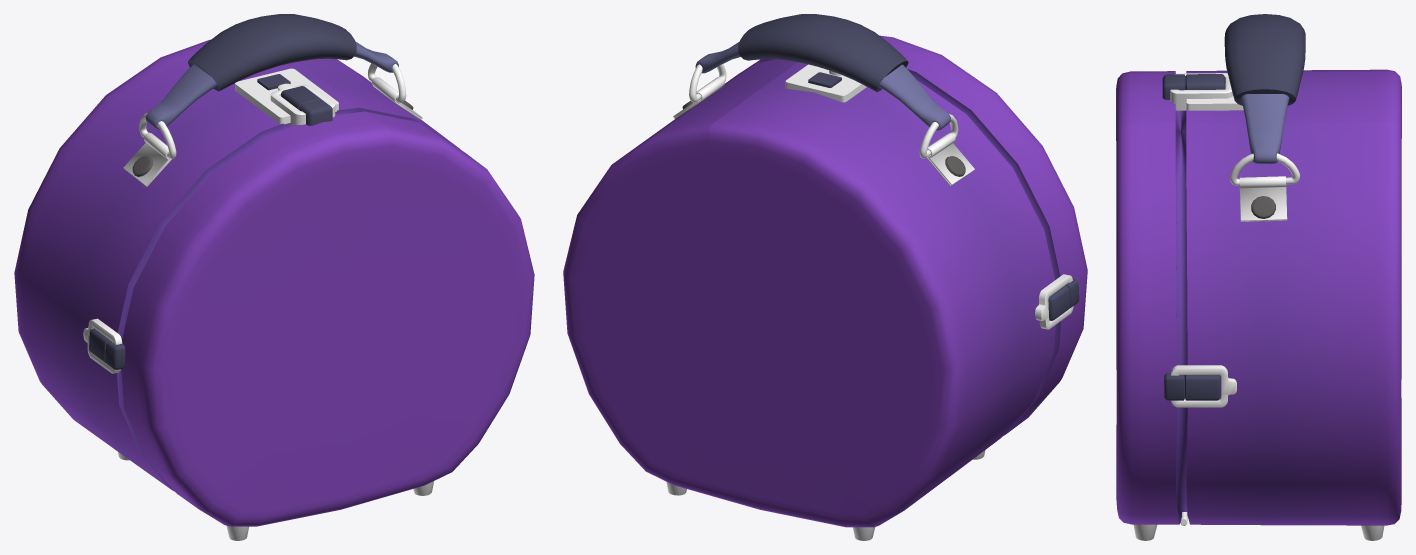
The model's file is Baggage_2_Purple.fbx.
3 renders of one model, left to right at view 1: azimuth 30°, elevation 25°; view 2: azimuth 150°, elevation 25°; view 3: azimuth 270°, elevation 25°, orthographic. The views are drawn at different scales.
Visible parts, largest first — view 1: Baggage_2_Purple; view 2: Baggage_2_Purple; view 3: Baggage_2_Purple.
Part boxes in pixels (x1,y1,x2,y2): Baggage_2_Purple: (14, 14, 534, 540); Baggage_2_Purple: (563, 14, 1087, 540); Baggage_2_Purple: (1116, 14, 1401, 540).
Bounding box in the file's own units: 61.05 × 63.5 × 35.5.
